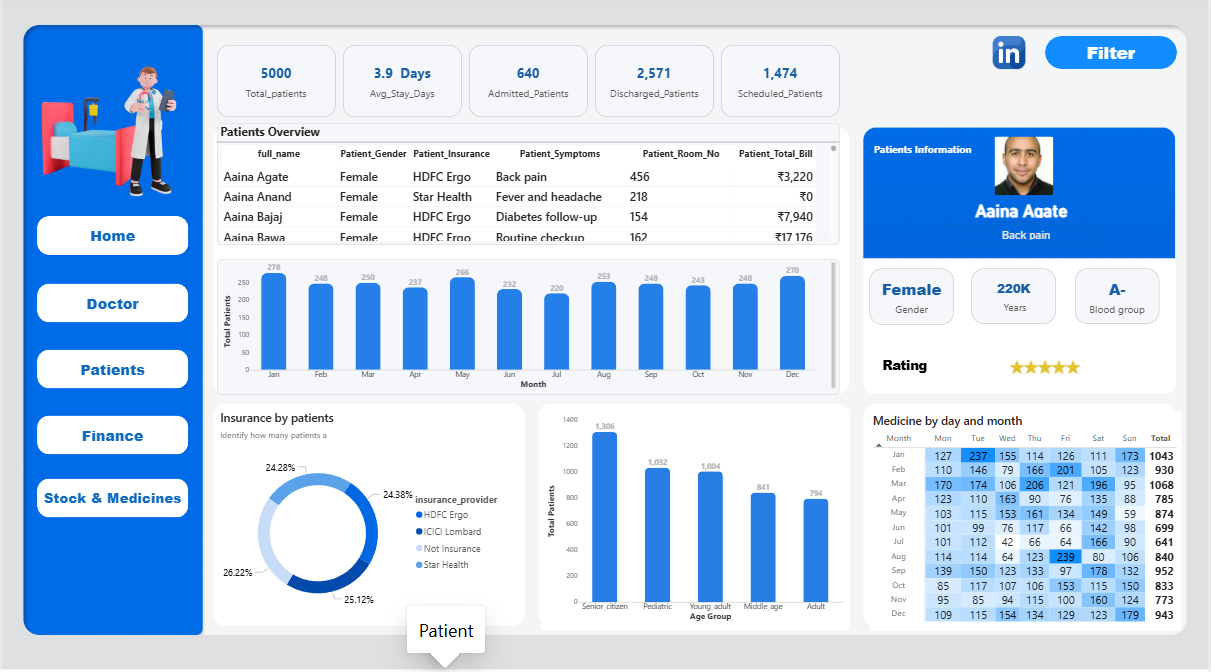

Layout of this report page (visuals, bound fields, positions):
{"tool":"powerbi","page":{"name":"Patient","canvas":[1920,1080],"ordinal":2},"visuals":[{"type":"shape","box":[343.6,422.3,990.2,214.7],"z":0},{"type":"deneb7E15AEF80B9E4D4F8E12924291ECE89A","title":"Patient count by month","fields":{"dataset":["Calender_table.Month","Measure_Table.Total_patients"]},"box":[343.6,419.9,990.2,217.1],"z":1000},{"type":"shape","box":[343.6,205.2,990.2,194],"z":2000},{"type":"card","fields":{"Values":["Measure_Table.Total_patients"]},"box":[343.6,81.7,188.5,114.5],"z":3000},{"type":"shape","box":[1381.4,226.7,169.4,38.2],"z":4000},{"type":"shape","box":[1724,78.7,83.8,62.1],"z":5000},{"type":"card","fields":{"Values":["Min(patients.full_name)"]},"box":[1467.3,319.7,312.6,47.7],"z":6000},{"type":"shape","box":[1381.4,570.2,112.1,40.6],"z":7000},{"type":"shape","box":[1674.9,528.7,181.3,40.6],"z":8000},{"type":"card","fields":{"Values":["Min(appointments.symptoms)"]},"box":[1515.1,362.7,231.4,35.8],"z":9000},{"type":"card","fields":{"Values":["Min(patients.gender)"]},"box":[1381.4,436.4,134,89],"z":10000},{"type":"image","box":[1562.8,226.7,128.8,93.1],"z":11000},{"type":"tableEx","title":"Patients Overview","fields":{"Values":["patients.full_name","Measure_Table.Patient_Gender","Measure_Table.Patient_Insurance","Measure_Table.Patient_Symptoms","Measure_Table.Patient_Room_No","Measure_Table.Patient_Total_Bill"]},"box":[343.6,205.2,990.2,190.9],"z":12000},{"type":"card","fields":{"Values":["Sum(patients.Total Years)"]},"box":[1544.9,436.7,134,88.3],"z":13000},{"type":"card","fields":{"Values":["Min(patients.blood_group)"]},"box":[1708.3,436.7,134,88.3],"z":14000},{"type":"card","fields":{"Values":["Measure_Table.Patient_Rating_Stars"]},"box":[1496,551.1,329.3,83.5],"z":15000},{"type":"card","fields":{"Values":["Measure_Table.Avg_Stay_Days"]},"box":[544,81.7,188.5,114.5],"z":16000},{"type":"card","fields":{"Values":["Measure_Table.Scheduled_Patients"]},"box":[1145.2,81.7,188.5,114.5],"z":17000},{"type":"card","fields":{"Values":["Measure_Table.Admitted_Patients"]},"box":[744.4,81.7,188.5,114.5],"z":18000},{"type":"image","box":[1574.7,66.8,57.3,52.5],"z":19000},{"type":"actionButton","box":[1574.7,66.8,52.5,52.5],"z":20000},{"type":"pivotTable","title":"Medicine by day and month","fields":{"Columns":["Calender_table.Day"],"Rows":["Calender_table.Month"],"Values":["Sum(medicine_dispensing.quantity_dispensed)"]},"box":[1381.4,665.7,495,346],"z":21000},{"type":"card","fields":{"Values":["Measure_Table.Discharged_Patients"]},"box":[944.8,81.7,188.5,114.5],"z":22000},{"type":"shape","box":[1660.6,66.8,210,52.5],"z":23000},{"type":"donutChart","title":"Insurance by  patients","fields":{"Category":["patients.insurance_provider"],"Y":["Measure_Table.Total_patients"]},"box":[343.6,660.9,465.3,346],"z":25000},{"type":"deneb7E15AEF80B9E4D4F8E12924291ECE89A","fields":{"dataset":["Measure_Table.Total_patients","patients.Age_group"]},"box":[858.9,660.9,491.5,350.7],"z":26000},{"type":"image","box":[40.6,40.6,269.6,326.9],"z":27000},{"type":"shape","box":[57.3,460.1,241,62],"z":27001},{"type":"shape","box":[57.3,565.1,241,62],"z":27002},{"type":"shape","box":[57.3,670.1,241,62],"z":27003},{"type":"shape","box":[57.3,770.3,241,62],"z":27004},{"type":"actionButton","box":[57.3,460.1,241,62],"z":27005},{"type":"actionButton","box":[57.3,565.1,241,62],"z":27006},{"type":"actionButton","box":[57.3,670.1,241,62],"z":27007},{"type":"actionButton","box":[57.3,770.3,241,62],"z":27008},{"type":"shape","box":[57.3,353.1,241,62],"z":27009},{"type":"actionButton","box":[57.3,350.7,241,62],"z":27010}]}

Visuals, with their boxes in screenshot pixels (x1, y1, x2, y2), scaled from the page's 1920x1080 canvas onto the 1211x672 screenshot:
shape: <bbox>217, 263, 841, 396</bbox>
"Patient count by month" deneb7E15AEF80B9E4D4F8E12924291ECE89A: <bbox>217, 261, 841, 396</bbox>
shape: <bbox>217, 128, 841, 248</bbox>
card - Measure_Table.Total_patients: <bbox>217, 51, 336, 122</bbox>
shape: <bbox>871, 141, 978, 165</bbox>
shape: <bbox>1087, 49, 1140, 88</bbox>
card - Min(patients.full_name): <bbox>925, 199, 1123, 229</bbox>
shape: <bbox>871, 355, 942, 380</bbox>
shape: <bbox>1056, 329, 1171, 354</bbox>
card - Min(appointments.symptoms): <bbox>956, 226, 1102, 248</bbox>
card - Min(patients.gender): <bbox>871, 272, 956, 327</bbox>
image: <bbox>986, 141, 1067, 199</bbox>
"Patients Overview" tableEx: <bbox>217, 128, 841, 246</bbox>
card - Sum(patients.Total Years): <bbox>974, 272, 1059, 327</bbox>
card - Min(patients.blood_group): <bbox>1077, 272, 1162, 327</bbox>
card - Measure_Table.Patient_Rating_Stars: <bbox>944, 343, 1151, 395</bbox>
card - Measure_Table.Avg_Stay_Days: <bbox>343, 51, 462, 122</bbox>
card - Measure_Table.Scheduled_Patients: <bbox>722, 51, 841, 122</bbox>
card - Measure_Table.Admitted_Patients: <bbox>470, 51, 588, 122</bbox>
image: <bbox>993, 42, 1029, 74</bbox>
actionButton: <bbox>993, 42, 1026, 74</bbox>
"Medicine by day and month" pivotTable: <bbox>871, 414, 1184, 630</bbox>
card - Measure_Table.Discharged_Patients: <bbox>596, 51, 715, 122</bbox>
shape: <bbox>1047, 42, 1180, 74</bbox>
"Insurance by  patients" donutChart: <bbox>217, 411, 510, 627</bbox>
deneb7E15AEF80B9E4D4F8E12924291ECE89A - Measure_Table.Total_patients x patients.Age_group: <bbox>542, 411, 852, 629</bbox>
image: <bbox>26, 25, 196, 229</bbox>
shape: <bbox>36, 286, 188, 325</bbox>
shape: <bbox>36, 352, 188, 390</bbox>
shape: <bbox>36, 417, 188, 456</bbox>
shape: <bbox>36, 479, 188, 518</bbox>
actionButton: <bbox>36, 286, 188, 325</bbox>
actionButton: <bbox>36, 352, 188, 390</bbox>
actionButton: <bbox>36, 417, 188, 456</bbox>
actionButton: <bbox>36, 479, 188, 518</bbox>
shape: <bbox>36, 220, 188, 258</bbox>
actionButton: <bbox>36, 218, 188, 257</bbox>
